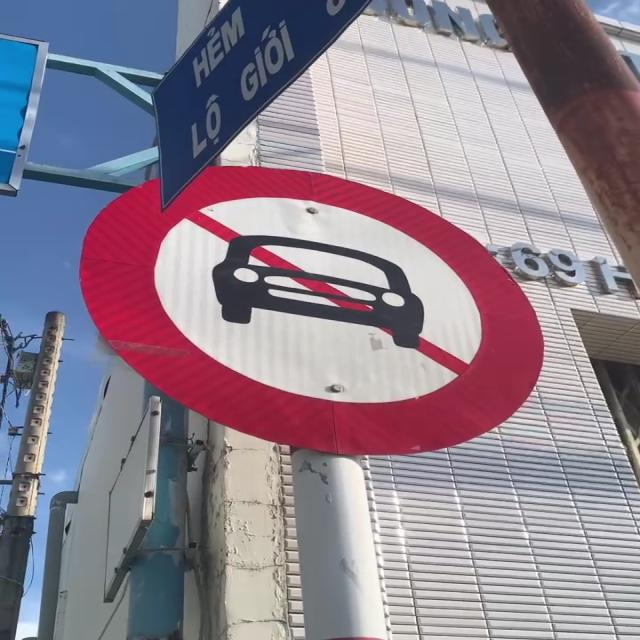Cam_O_To: (77, 160, 541, 452)
